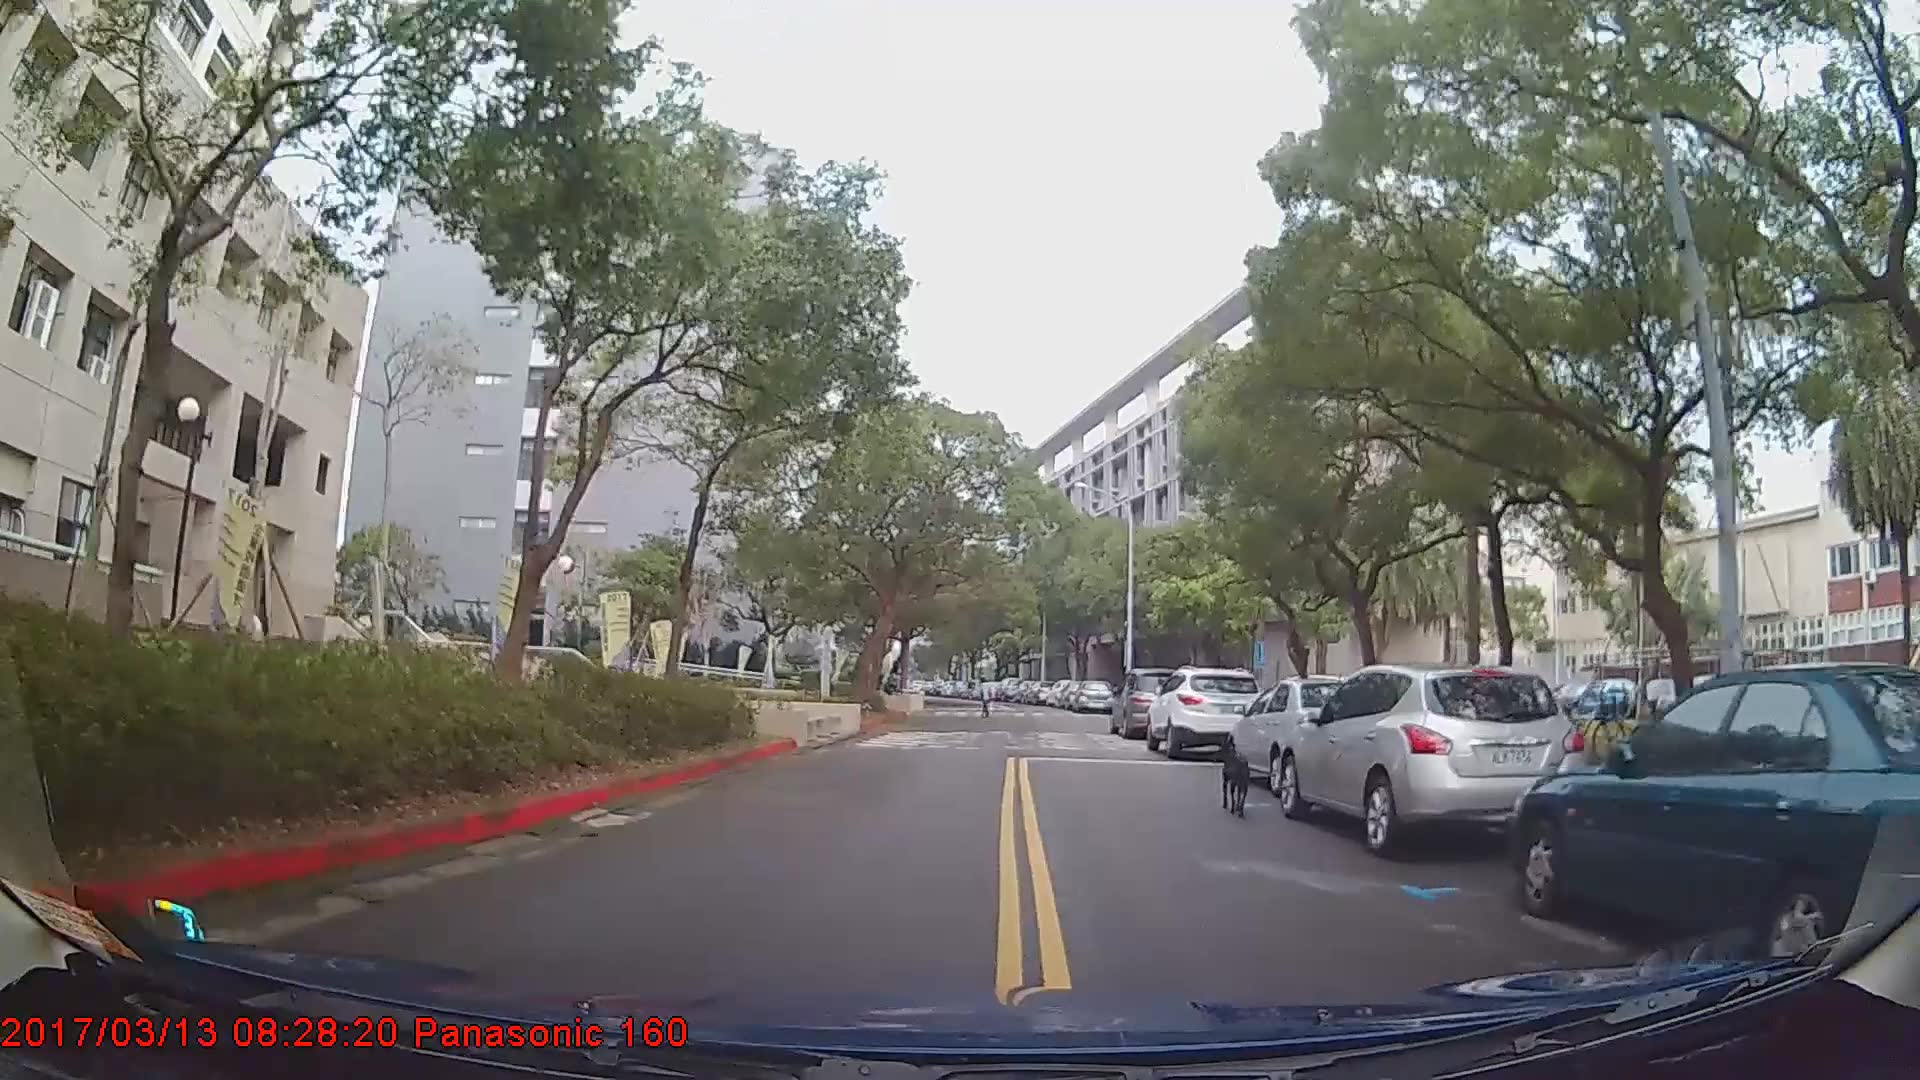pedestrian: (977, 682, 997, 724)
vehicle: (1514, 666, 1920, 978), (1282, 665, 1595, 856), (1223, 674, 1382, 797), (1148, 667, 1269, 761), (1109, 668, 1201, 738), (1074, 677, 1113, 712)
